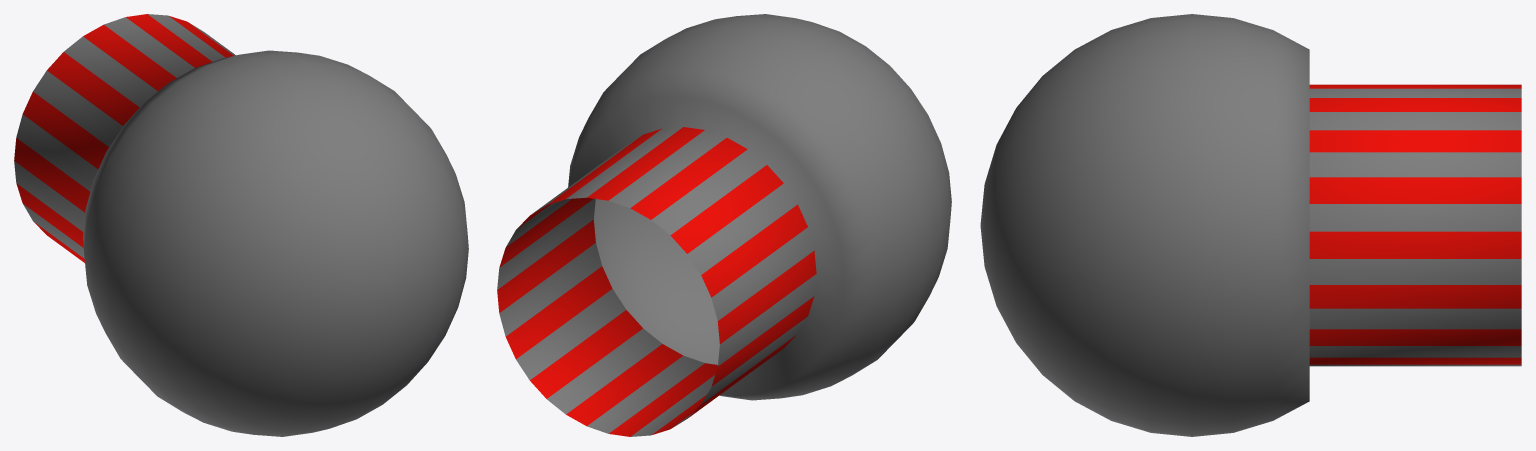
Rendered from Cannon.glb.
3 views of the same model, side by side, from view 1: azimuth 30°, elevation 25°; view 2: azimuth 150°, elevation 25°; view 3: azimuth 270°, elevation 25° (orthographic). The views are drawn at different scales.
Parts seen in each view (by area): view 1: Sphere; view 2: Sphere; view 3: Sphere.
Part boxes in pixels (x1,y1,x2,y2): Sphere: (14,14,468,436); Sphere: (497,14,951,436); Sphere: (980,14,1521,436).
Size of the model in its own units: 2 by 2 by 2.56.
